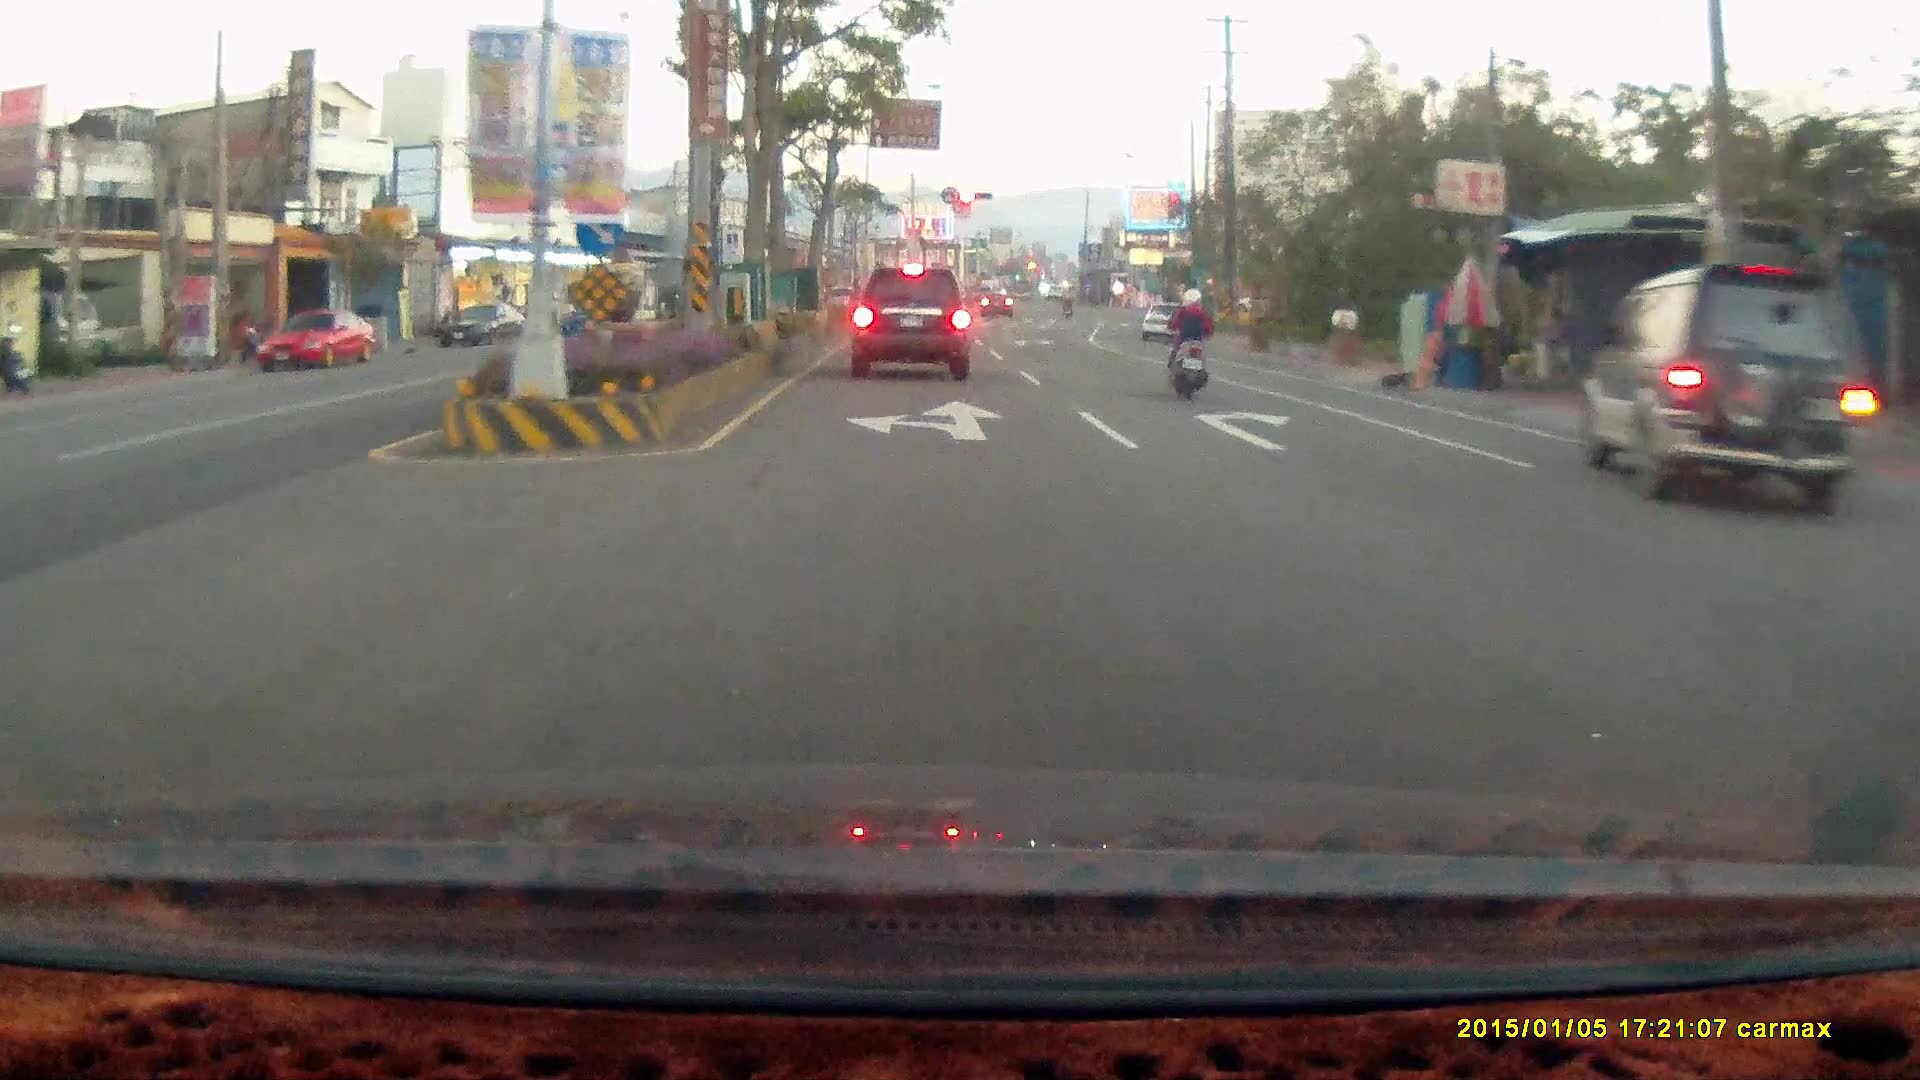rider: (1163, 286, 1213, 401)
vehicle: (1578, 264, 1878, 515), (1582, 265, 1876, 509), (849, 263, 969, 377), (257, 305, 384, 373), (253, 305, 378, 371), (1896, 493, 1920, 836), (1883, 528, 1920, 690), (443, 299, 532, 349), (1141, 302, 1193, 344), (1140, 302, 1194, 342)
